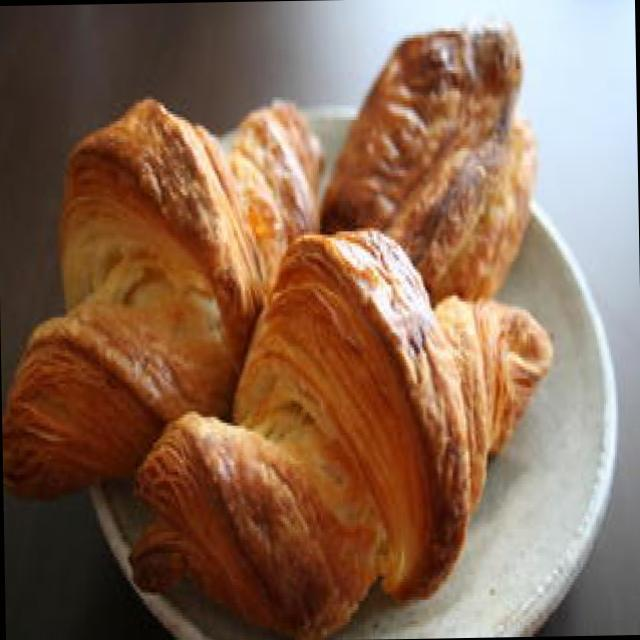Croissant: (140, 201, 553, 624)
